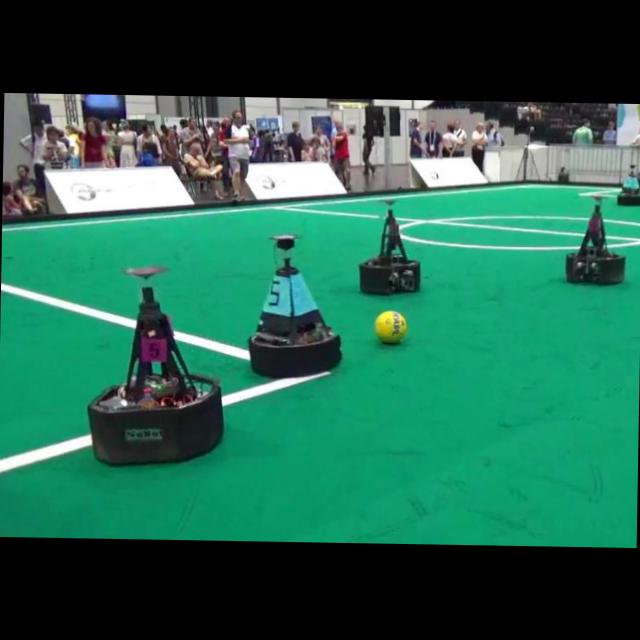ball: (374, 310, 406, 343)
robot: (87, 266, 223, 465), (248, 234, 341, 377), (359, 208, 420, 293), (565, 204, 624, 284), (617, 164, 640, 204)
